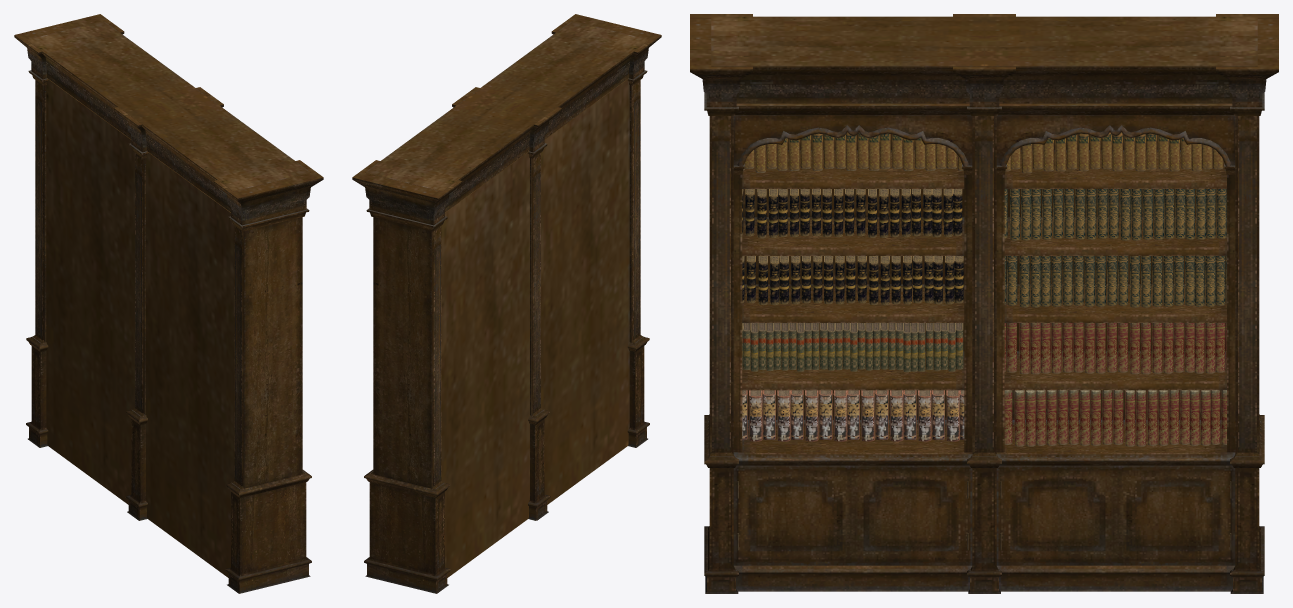
File: sm39_116_bookshelsetf02a.fbx
3 views of the same model, side by side, from view 1: azimuth 30°, elevation 25°; view 2: azimuth 150°, elevation 25°; view 3: azimuth 270°, elevation 25° (orthographic). The views are drawn at different scales.
Parts seen in each view (by area): view 1: LOD_1_Group_0_Sub_2__sm30_159_BookShelf01A_B_Mat; view 2: LOD_1_Group_0_Sub_2__sm30_159_BookShelf01A_B_Mat; view 3: LOD_1_Group_0_Sub_2__sm30_159_BookShelf01A_B_Mat, LOD_1_Group_1_Sub_1__sm36_001_BookSet01A_A_Mat, LOD_1_Group_5_Sub_1__sm36_001_BookSet01A_A_Mat, LOD_1_Group_2_Sub_1__sm36_001_BookSet01A_A_Mat, LOD_1_Group_7_Sub_1__sm36_001_BookSet01A_A_Mat, LOD_1_Group_6_Sub_1__sm36_001_BookSet01A_A_Mat, LOD_1_Group_9_Sub_1__sm36_001_BookSet01A_A_Mat, LOD_1_Group_8_Sub_1__sm36_001_BookSet01A_A_Mat, LOD_1_Group_0_Sub_1__sm36_001_BookSet01A_A_Mat, LOD_1_Group_4_Sub_1__sm36_001_BookSet01A_A_Mat.
Boxes of the visible parts, x1=… form: LOD_1_Group_0_Sub_2__sm30_159_BookShelf01A_B_Mat: x1=14, y1=14, x2=323, y2=593; LOD_1_Group_0_Sub_2__sm30_159_BookShelf01A_B_Mat: x1=352, y1=14, x2=661, y2=593; LOD_1_Group_0_Sub_2__sm30_159_BookShelf01A_B_Mat: x1=690, y1=14, x2=1278, y2=593; LOD_1_Group_1_Sub_1__sm36_001_BookSet01A_A_Mat: x1=1004, y1=132, x2=1226, y2=240; LOD_1_Group_5_Sub_1__sm36_001_BookSet01A_A_Mat: x1=1004, y1=390, x2=1226, y2=446; LOD_1_Group_2_Sub_1__sm36_001_BookSet01A_A_Mat: x1=742, y1=390, x2=964, y2=441; LOD_1_Group_7_Sub_1__sm36_001_BookSet01A_A_Mat: x1=1004, y1=256, x2=1226, y2=307; LOD_1_Group_6_Sub_1__sm36_001_BookSet01A_A_Mat: x1=1004, y1=323, x2=1226, y2=374; LOD_1_Group_9_Sub_1__sm36_001_BookSet01A_A_Mat: x1=742, y1=323, x2=963, y2=372; LOD_1_Group_8_Sub_1__sm36_001_BookSet01A_A_Mat: x1=742, y1=256, x2=963, y2=305; LOD_1_Group_0_Sub_1__sm36_001_BookSet01A_A_Mat: x1=742, y1=189, x2=962, y2=237; LOD_1_Group_4_Sub_1__sm36_001_BookSet01A_A_Mat: x1=743, y1=132, x2=963, y2=172.
Size of the model in its own units: 0.6117 by 2.72 by 2.74.
